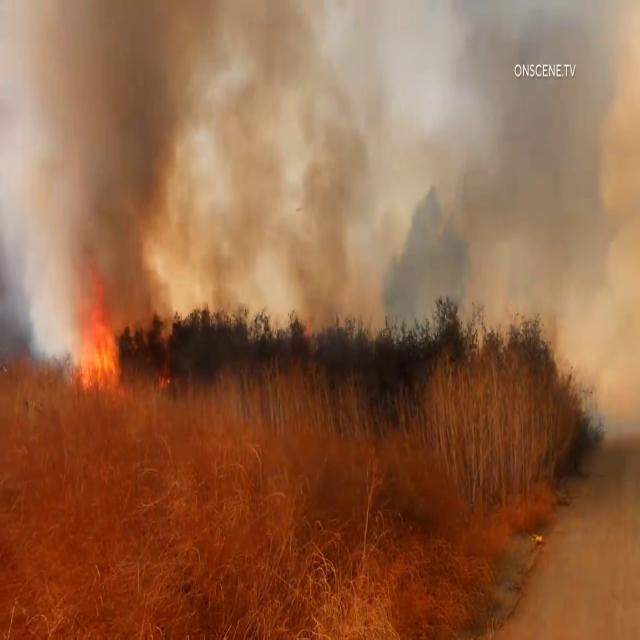Fire: (72, 301, 123, 394)
Smoke: (1, 1, 380, 344), (387, 0, 640, 436)
